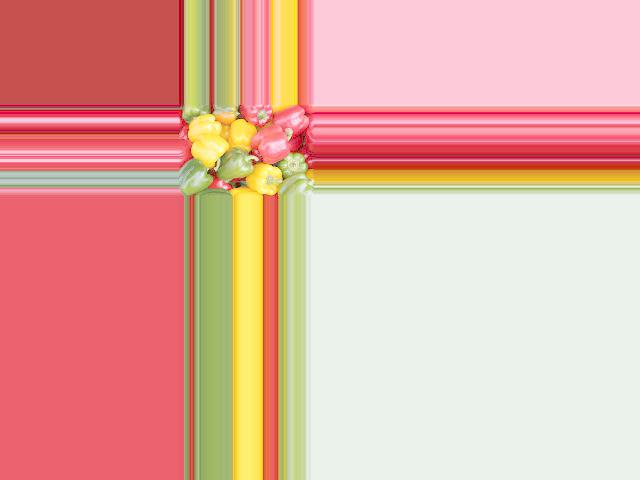bell_pepper: (183, 104, 213, 120)
